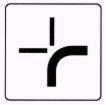Diagramas de via de com prioridade: (5, 2, 104, 101)
